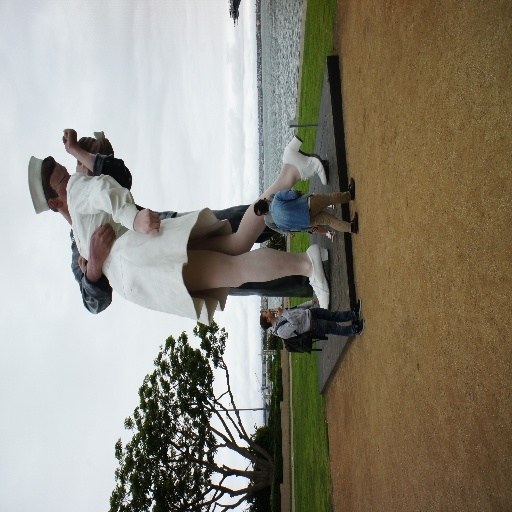hand: (86, 222, 117, 268), (130, 205, 160, 235), (60, 127, 77, 154), (75, 256, 86, 275), (274, 305, 283, 317), (310, 297, 318, 305), (288, 231, 295, 240)
